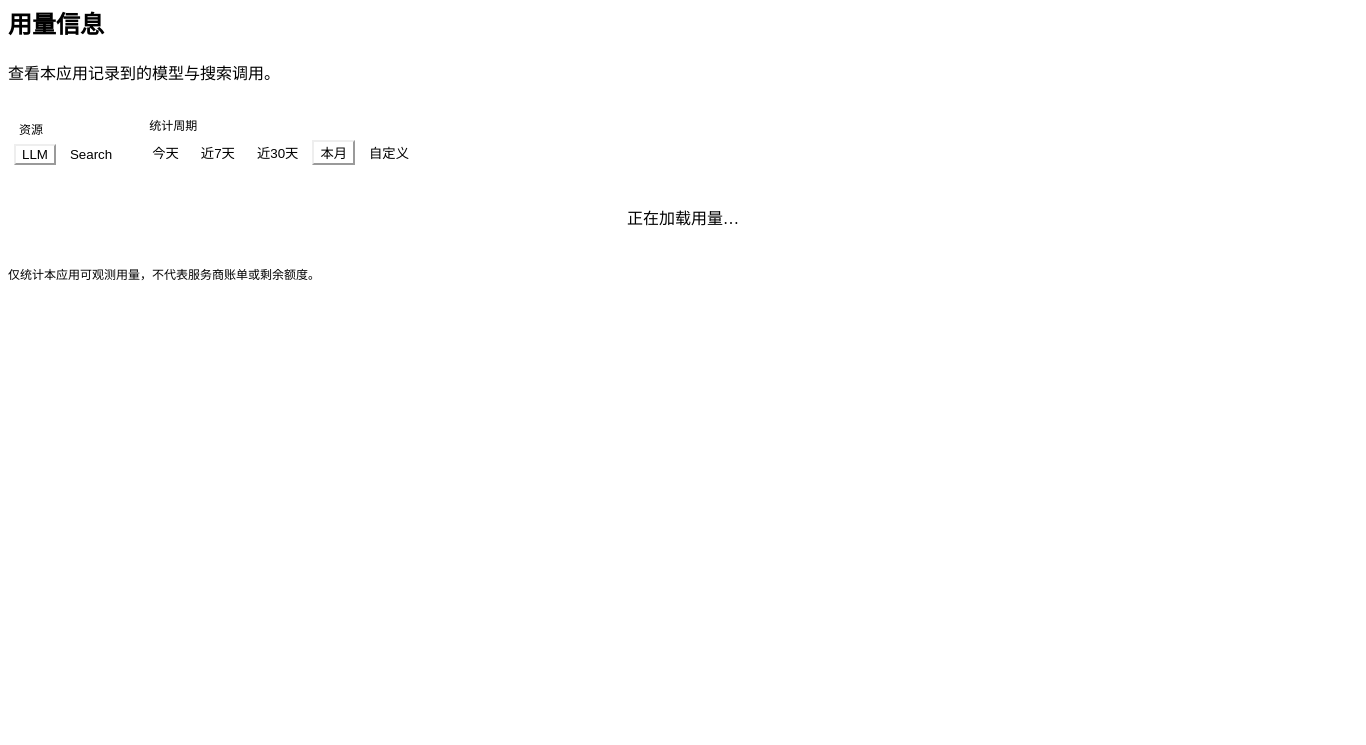
Test: UsageDashboardView › ignores a stale response after the resource changes
Click the button "Search". click: [91, 154]
box: [62,144,120,165]
(page scrolled)
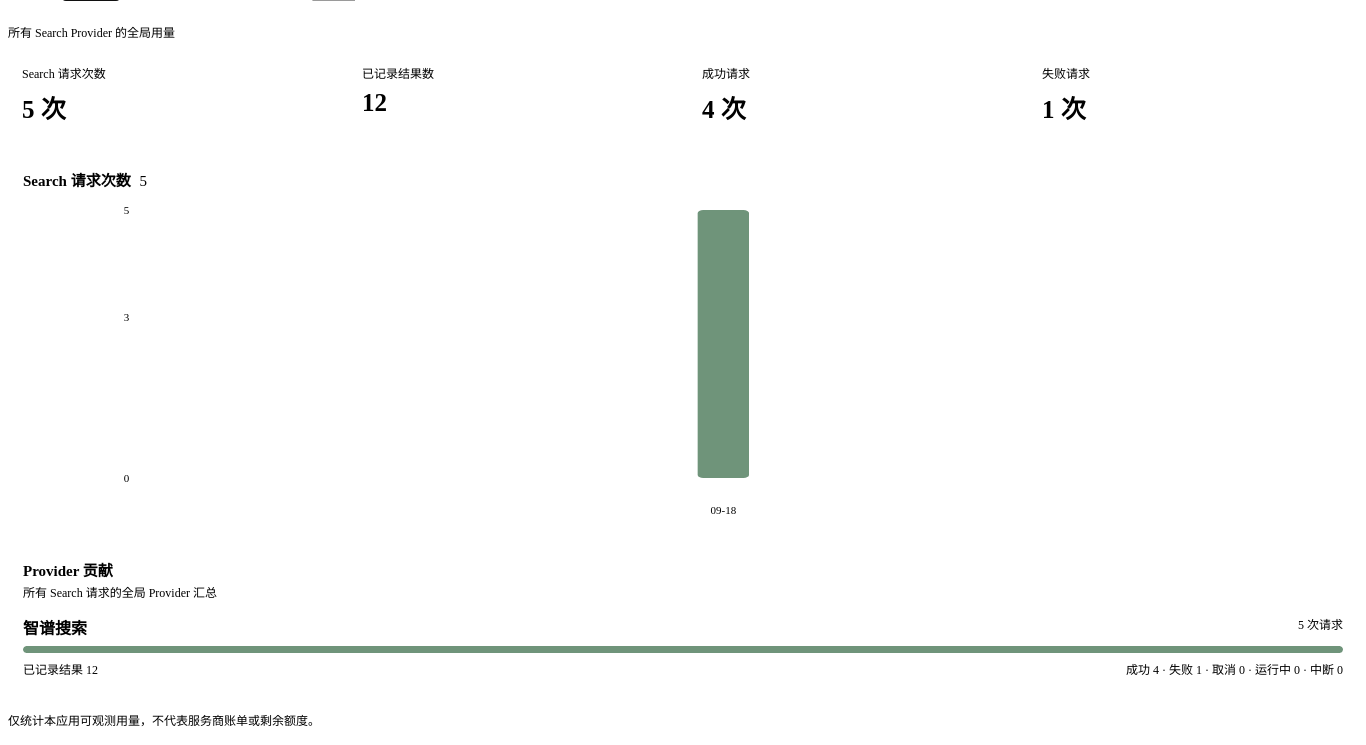
Expected: the text "智谱搜索" is shown, [23,615,87,639]
